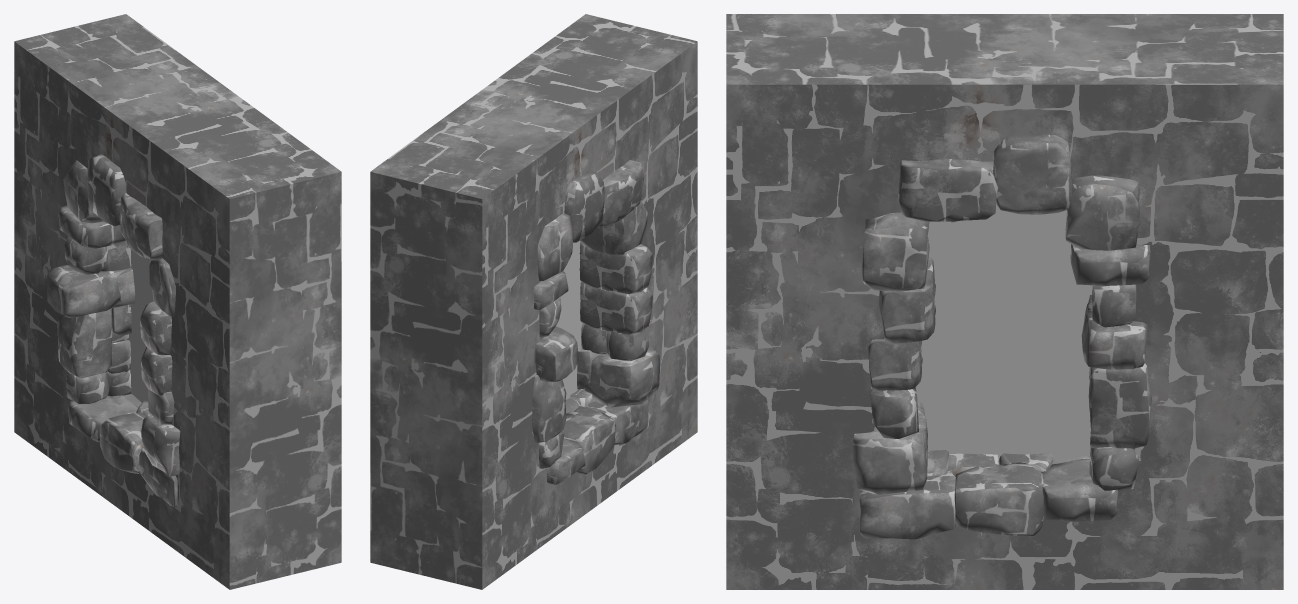
File: Wall_Window_03.fbx
3 views of the same model, side by side, from view 1: azimuth 30°, elevation 25°; view 2: azimuth 150°, elevation 25°; view 3: azimuth 270°, elevation 25° (orthographic). The views are drawn at different scales.
Visible parts, largest first — view 1: Wall_with_Window.002, rock_1.012; view 2: Wall_with_Window.002, rock_1.012; view 3: Wall_with_Window.002, rock_1.012.
Part boxes in pixels (bbox=[...]): Wall_with_Window.002: bbox=[14, 14, 341, 589]; rock_1.012: bbox=[47, 154, 180, 507]; Wall_with_Window.002: bbox=[370, 14, 697, 589]; rock_1.012: bbox=[532, 160, 659, 484]; Wall_with_Window.002: bbox=[726, 14, 1283, 589]; rock_1.012: bbox=[852, 134, 1151, 539].
Size of the model in its own units: 2.08 by 5 by 5.
